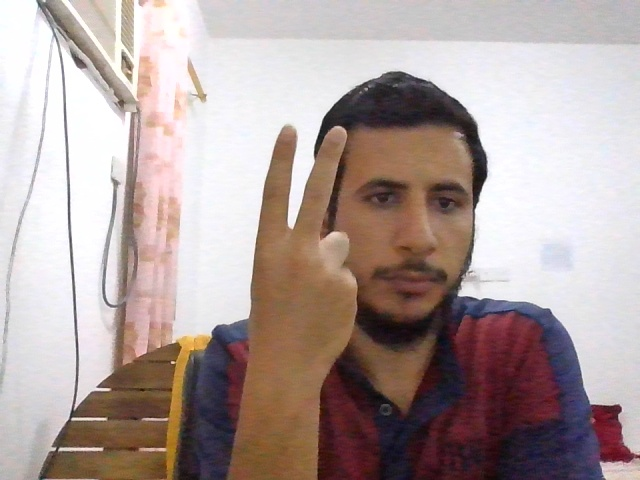Two: (248, 124, 358, 371)
